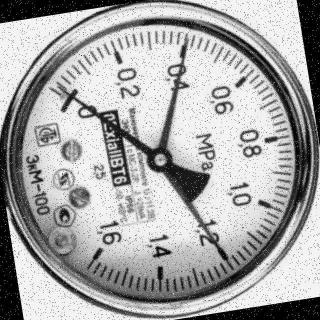gauge: (0, 0, 319, 316), (51, 77, 93, 114), (82, 231, 118, 269), (144, 144, 175, 176), (211, 242, 234, 266), (51, 81, 74, 102), (176, 30, 195, 49)
